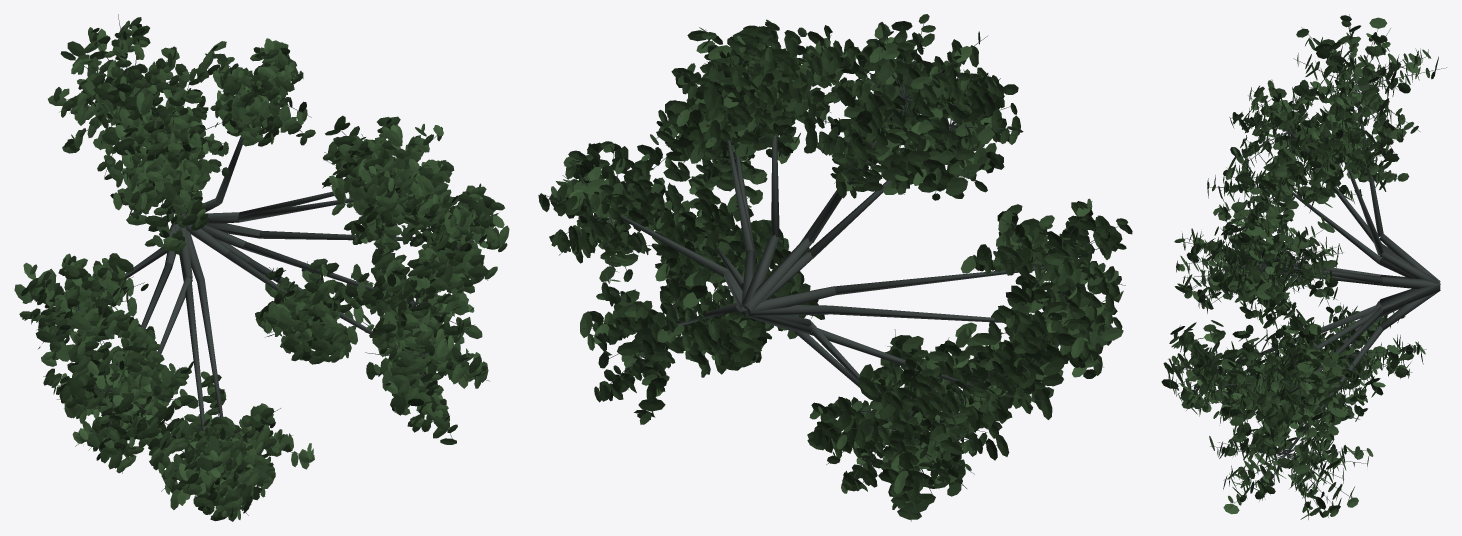
The model's file is tree_m9.obj.
3 renders of one model, left to right at view 1: azimuth 30°, elevation 25°; view 2: azimuth 150°, elevation 25°; view 3: azimuth 270°, elevation 25°, orthographic. The views are drawn at different scales.
Size of the model in its own units: 1.84 by 1.68 by 1.05.
Materials: 1 (1 with a texture image).
